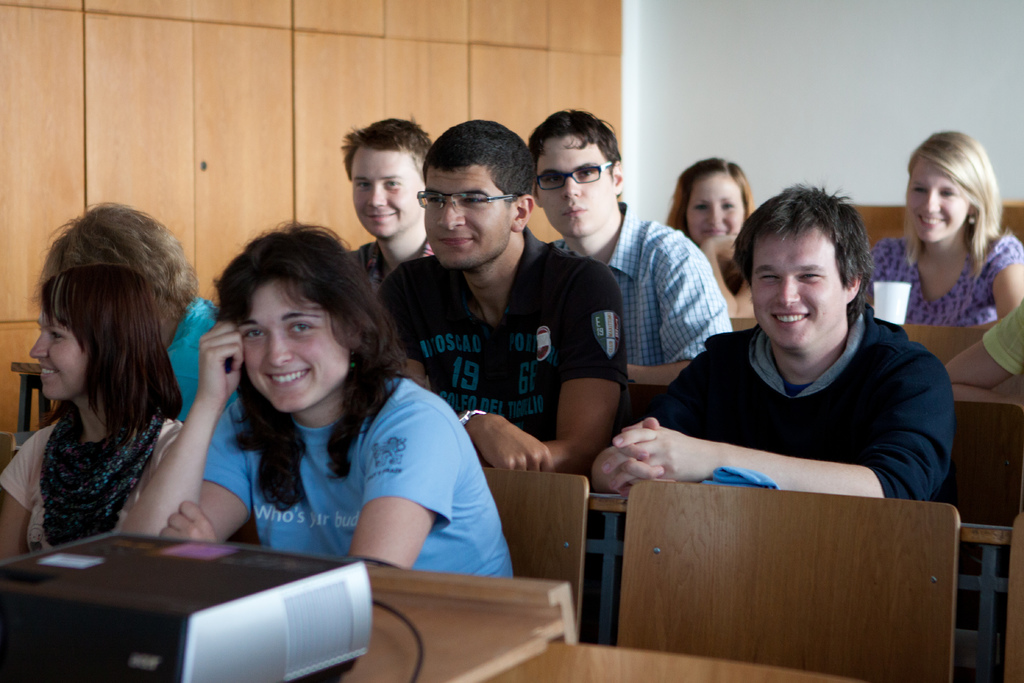Human_hand: (592, 416, 668, 493), (465, 411, 556, 471), (197, 319, 244, 400), (159, 500, 220, 542), (707, 232, 737, 263)
